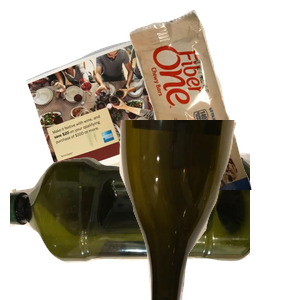glass: (117, 120, 300, 300)
paper: (23, 24, 232, 199)
plastic: (10, 149, 250, 300)
trash: (127, 10, 300, 190)
